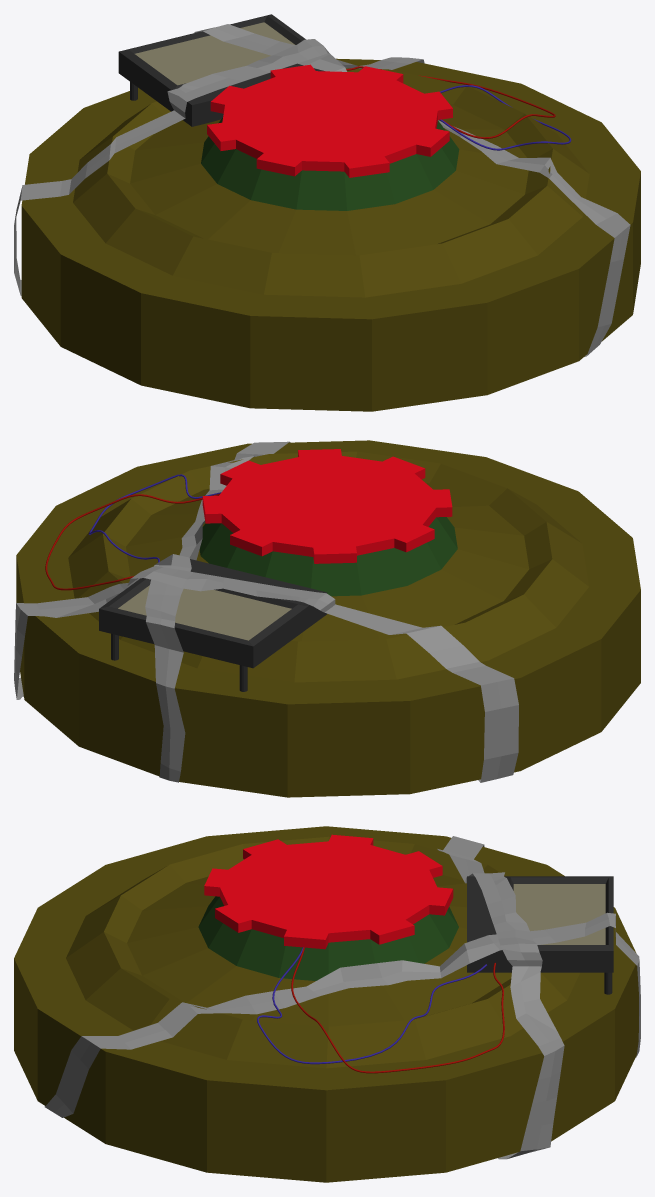
Rendered from Мина.fbx.
The picture shows the model from 3 angles, top to bottom: view 1: azimuth 30°, elevation 25°; view 2: azimuth 150°, elevation 25°; view 3: azimuth 270°, elevation 25°; orthographic projection.
Visible parts, largest first — view 1: Мина; view 2: Мина; view 3: Мина.
Part boxes in pixels (box(x1,y1,x2,y2)): Мина: box(14, 14, 640, 411); Мина: box(14, 440, 640, 797); Мина: box(14, 826, 640, 1182).
Bounding box in the file's own units: 227 × 67.11 × 228.
